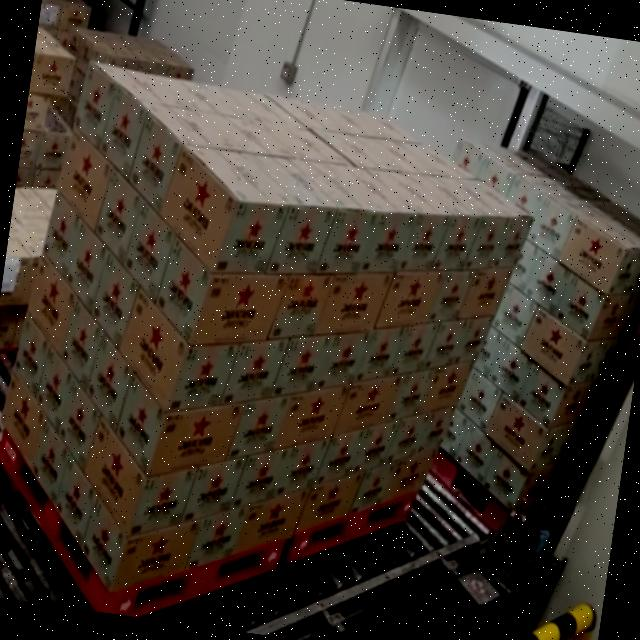pallet: (0, 29, 357, 637), (282, 95, 548, 599), (412, 105, 640, 554)
